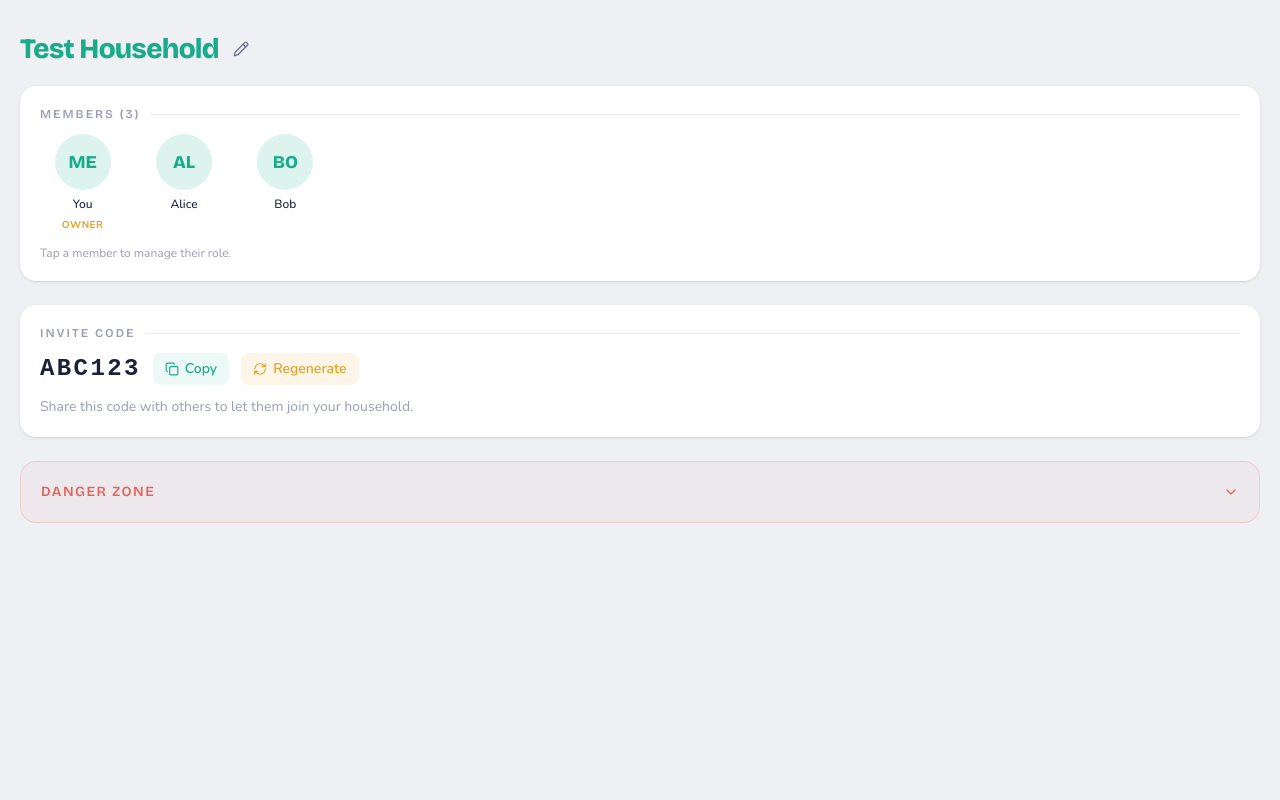
Test case: HouseholdPage › renders leave button inside danger zone
Click the button "Danger Zone": point(98, 492) [21, 462, 1259, 522]
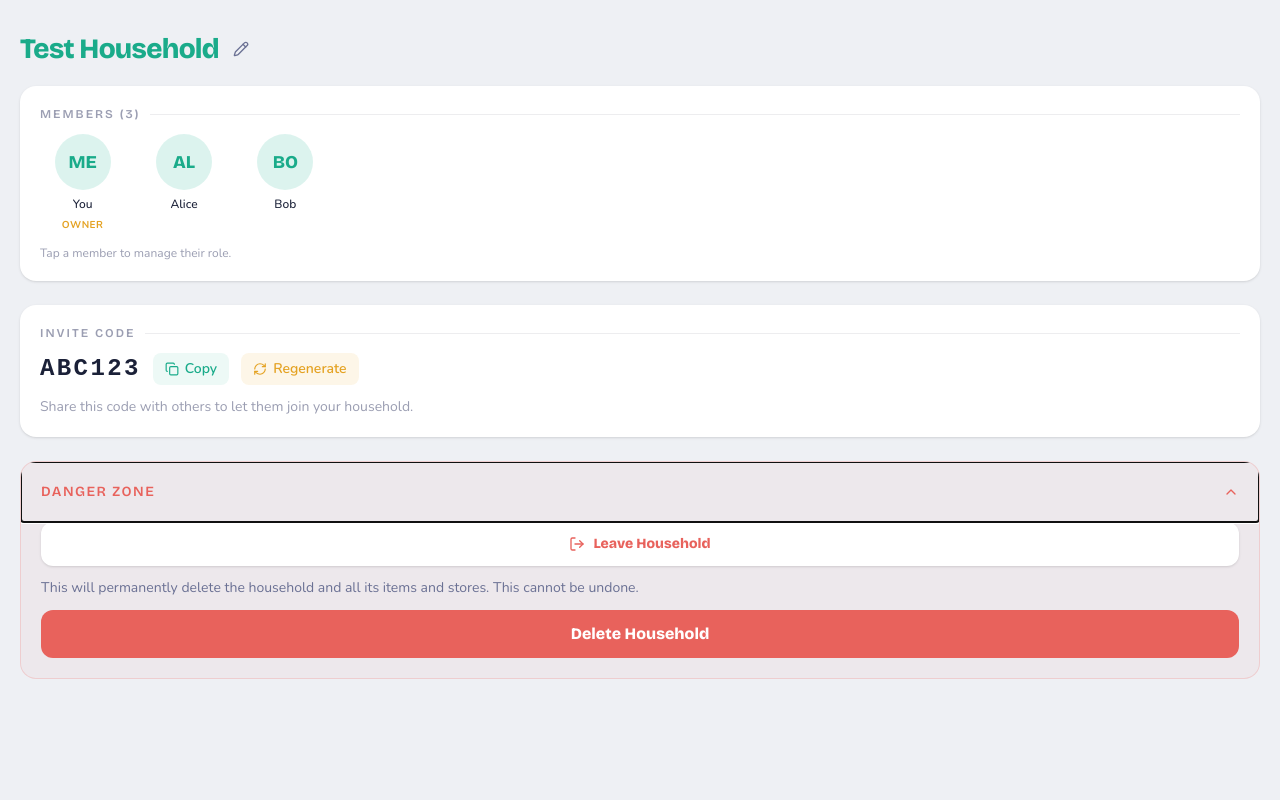
Check: the button "Leave Household" is shown, box [41, 522, 1239, 566]
